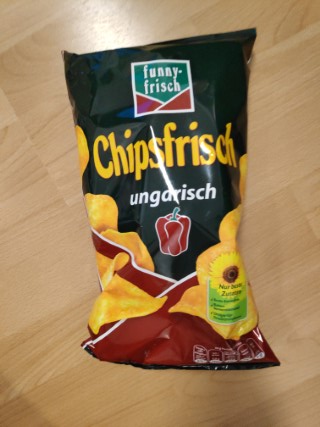chipsfrisch: (62, 26, 283, 370)
